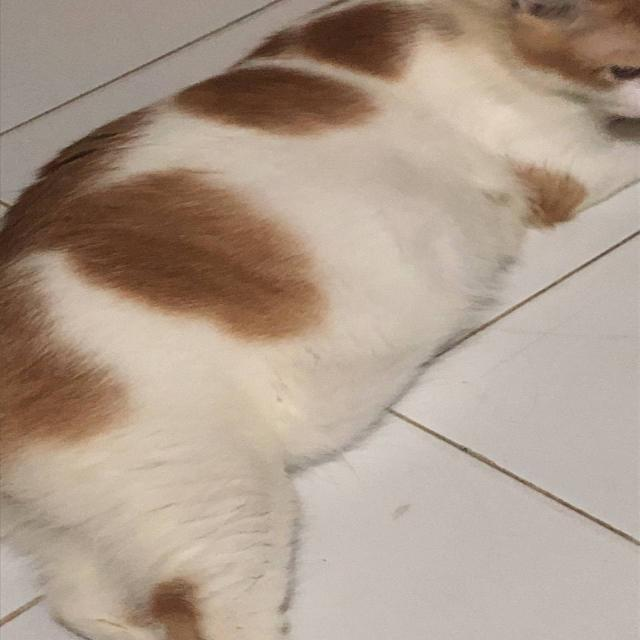da khoe manh: (91, 112, 327, 391)
